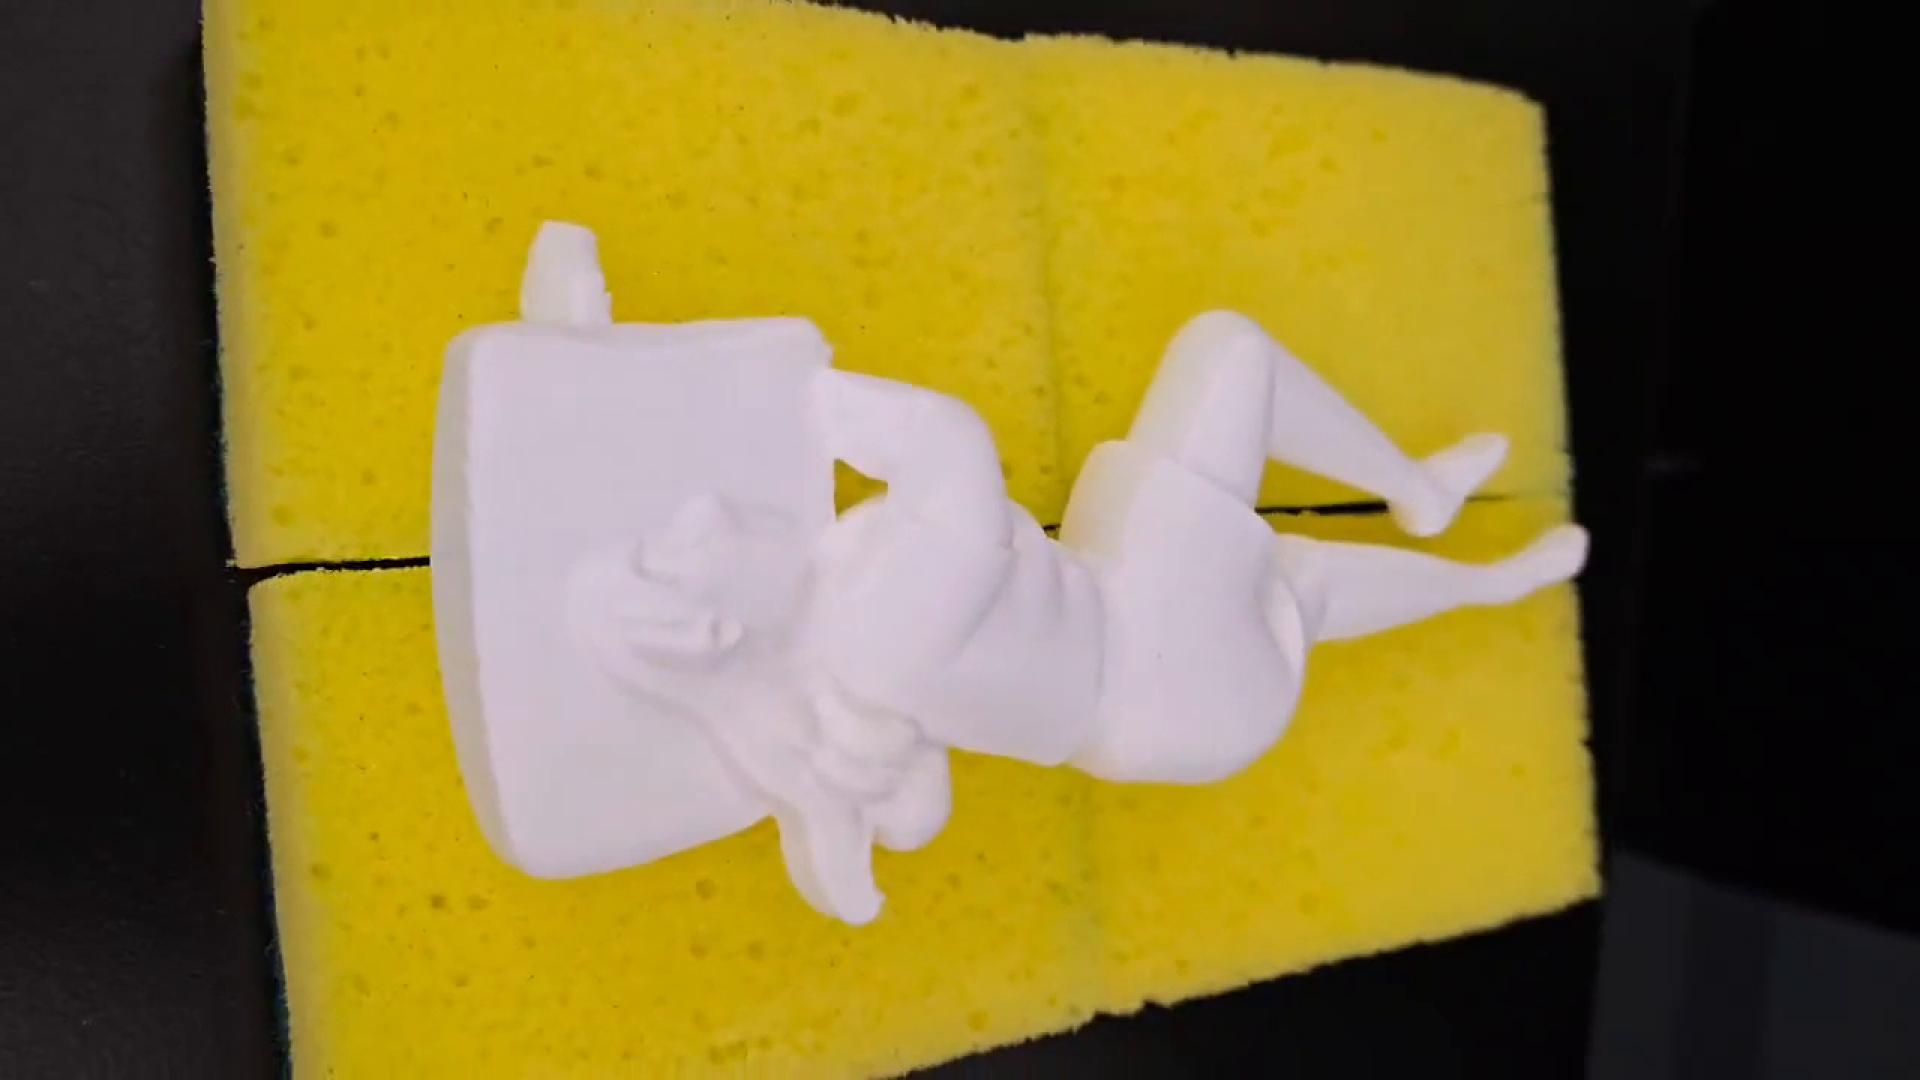Good-style: (438, 216, 1590, 934)
